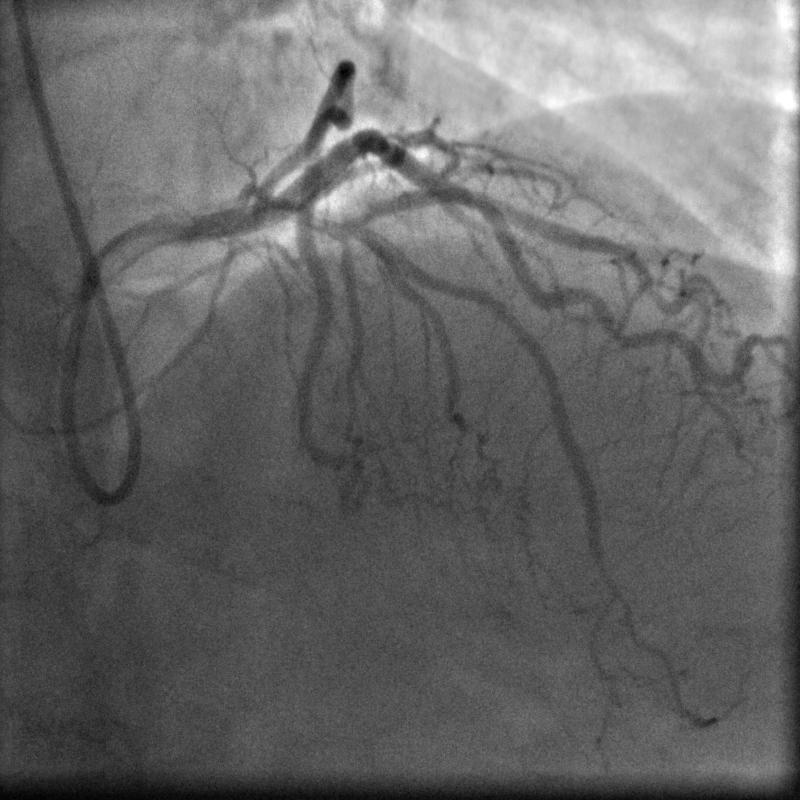Stenosis: (451, 182, 498, 219)
